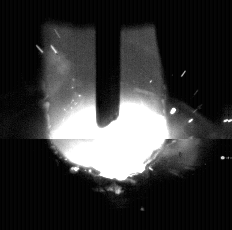arame: (96, 0, 122, 128)
poca: (49, 0, 171, 230)
